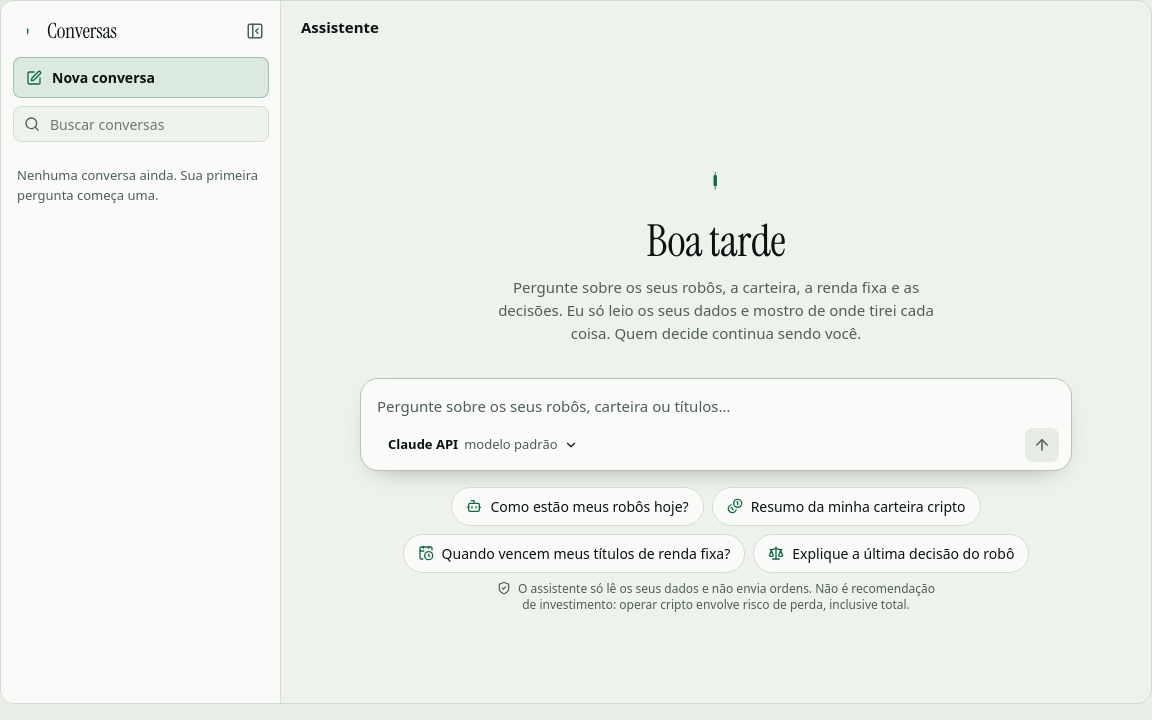
Test: Assistente: resposta em andamento › falha de rede vira aviso amigável com Tentar de novo, que repete a pergunta
In the text box named "Sua pergunta": point(718, 406) [377,391,1059,422], type "Quanto rendeu?"
Then press Enter
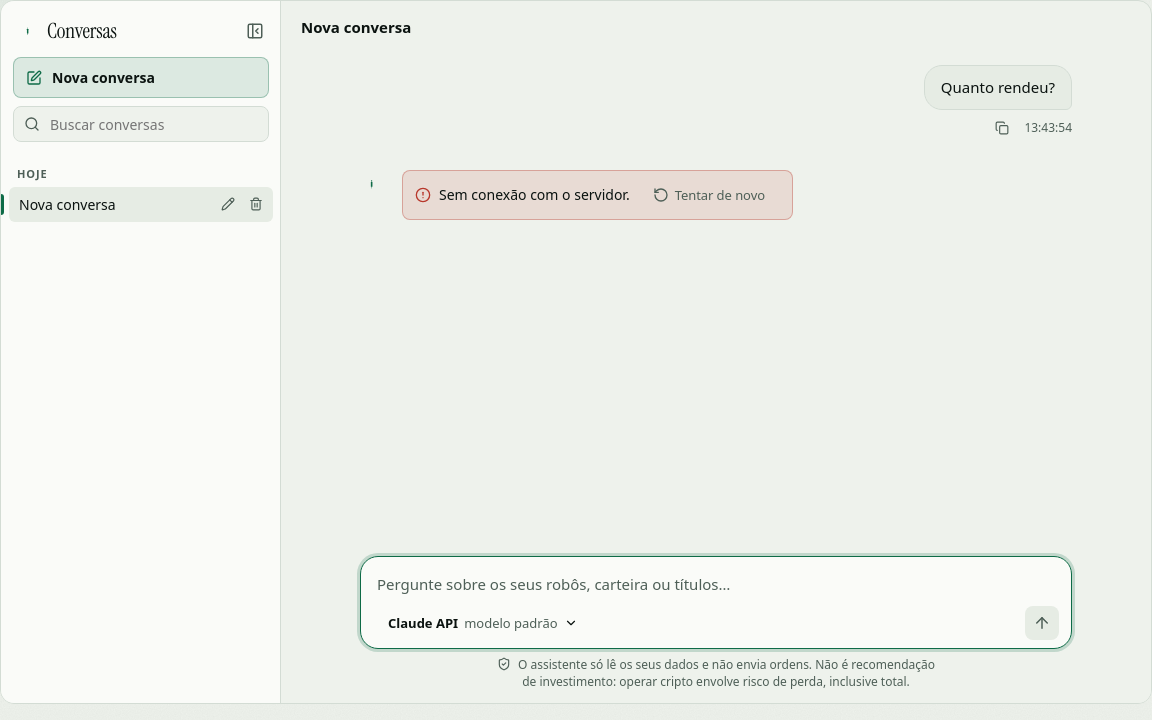
Result: the message shows "Sem conexão com o servidor." at [439,185,630,204]
Click the button "Tentar de novo": point(709, 195) [638,179,780,211]
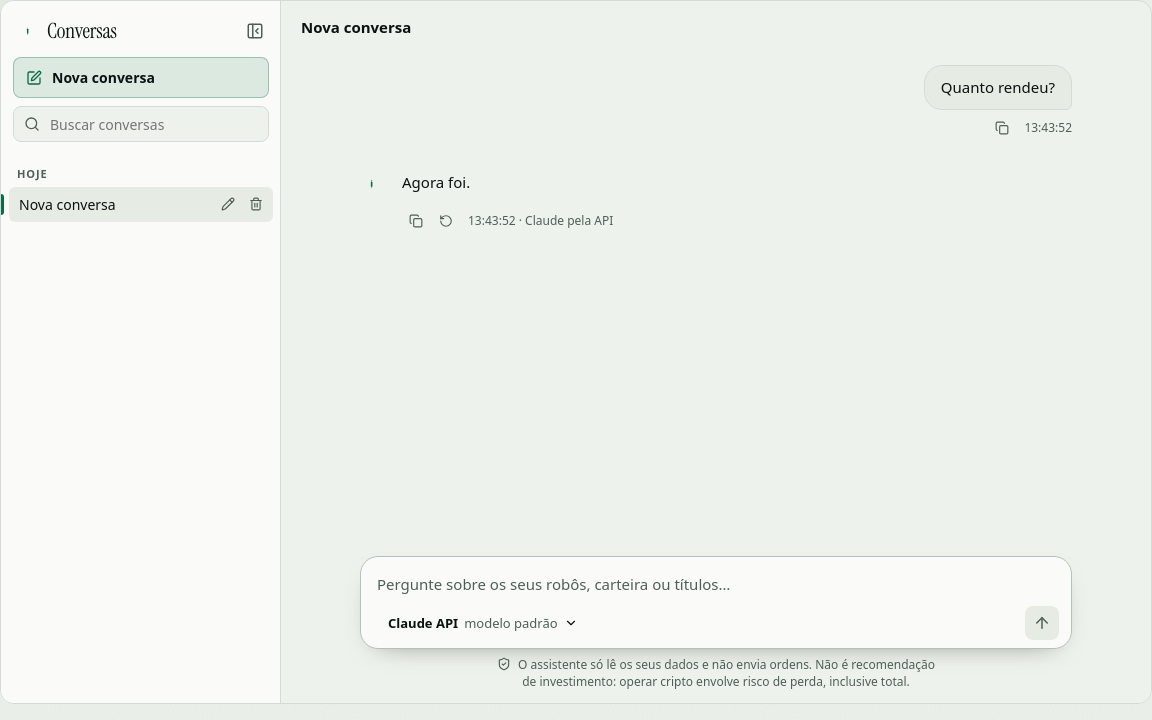
Result: the text "Agora foi." is shown at [402,172,470,192]
